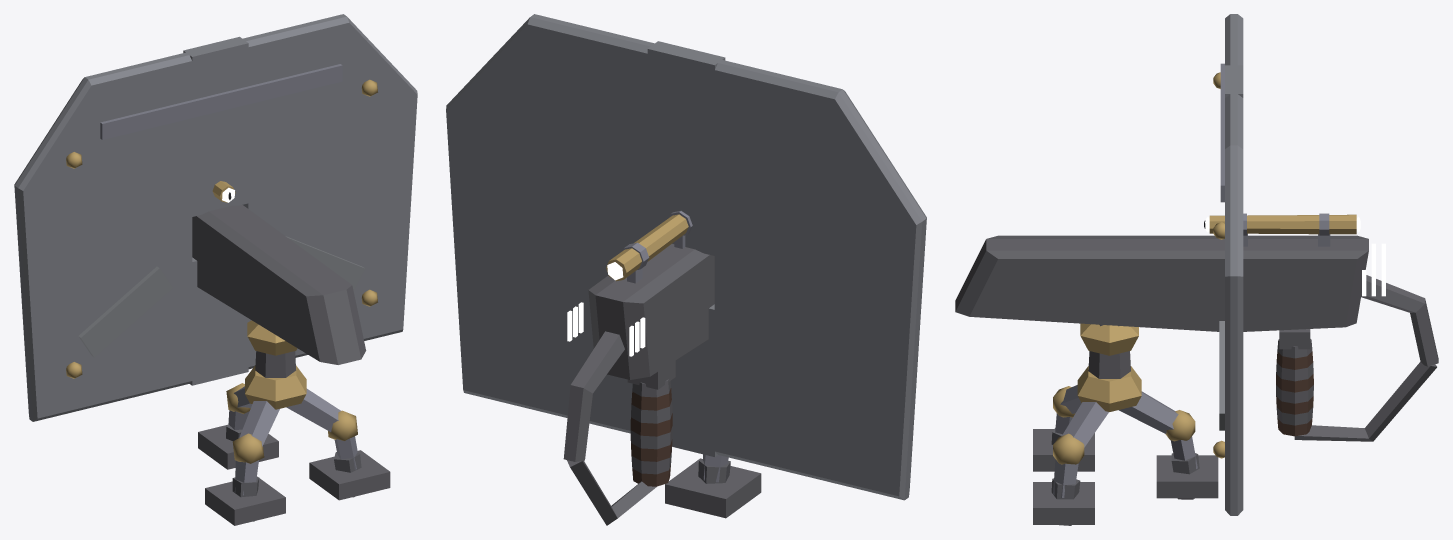
File: gun-shield-gun.glb
The picture shows the model from 3 angles, left to right: view 1: azimuth 30°, elevation 25°; view 2: azimuth 150°, elevation 25°; view 3: azimuth 270°, elevation 25°; orthographic projection. The views are drawn at different scales.
Visible parts, largest first — view 1: gun-shield-gun; view 2: gun-shield-gun, pulse_breath; view 3: gun-shield-gun, pulse_breath.
Boxes of the visible parts, <box> form: gun-shield-gun: <box>14,14,417,525</box>; gun-shield-gun: <box>446,14,926,525</box>; pulse_breath: <box>567,302,645,356</box>; gun-shield-gun: <box>955,14,1438,525</box>; pulse_breath: <box>1362,243,1385,296</box>.
Bounding box in the file's own units: 0.7776 × 0.7442 × 0.7827.
